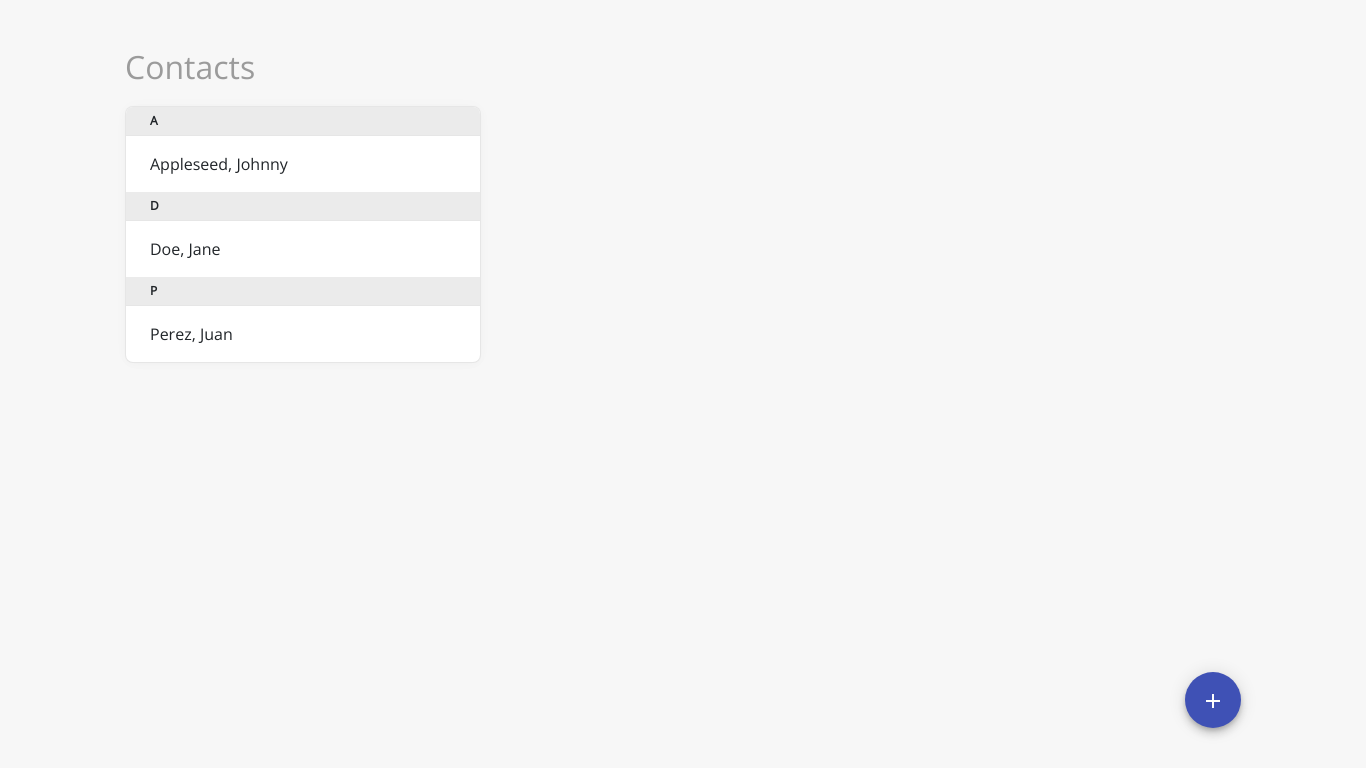
it: Main › Select a contact item
Click the link "Appleseed, Johnny" at (219, 164), box [150,153,288,175]
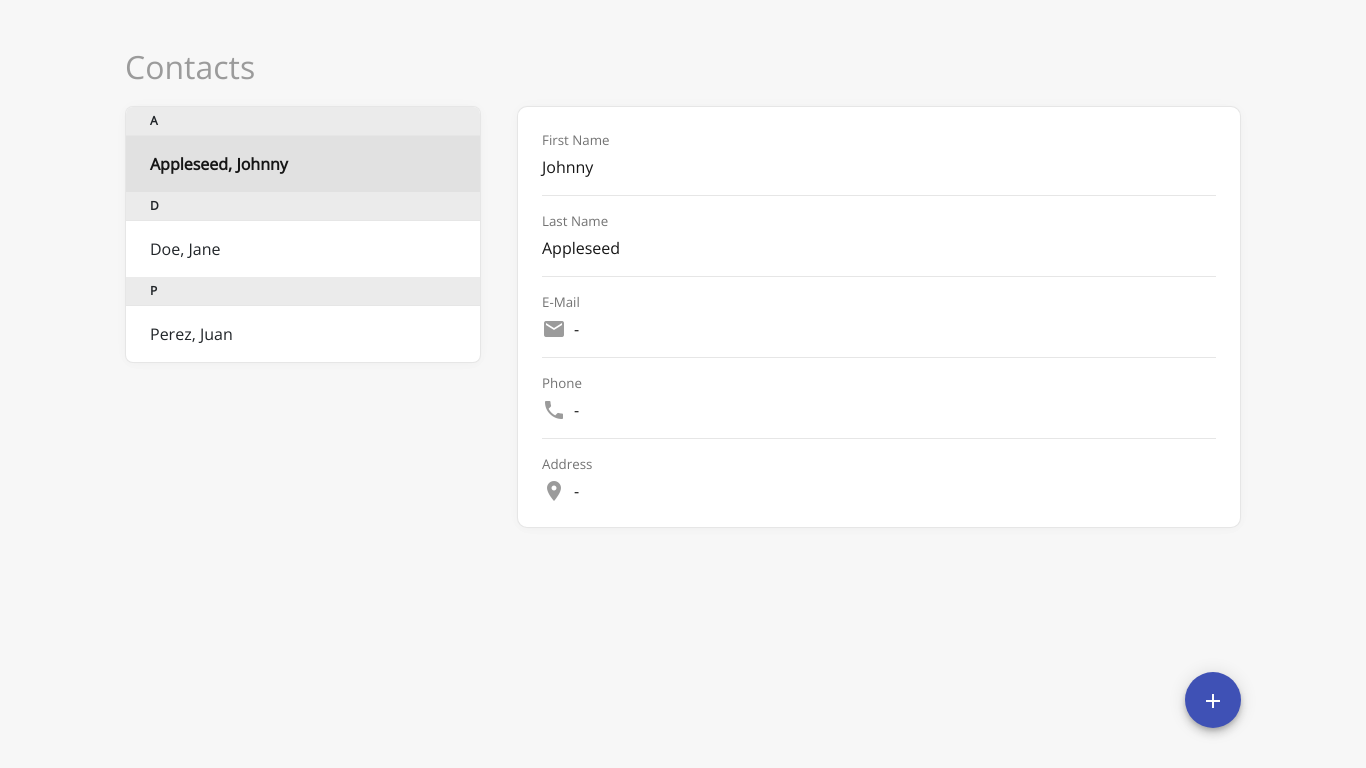
Check: the element with class "details" is shown, box [517,106,1241,528]
